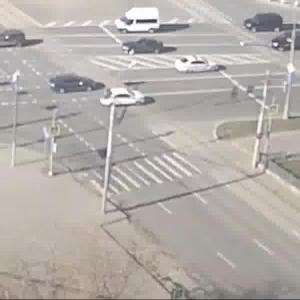car: (117, 6, 164, 34), (48, 71, 101, 95), (127, 37, 169, 59), (243, 13, 285, 33), (173, 58, 219, 75), (99, 90, 144, 107), (272, 29, 300, 53), (1, 31, 30, 50)
